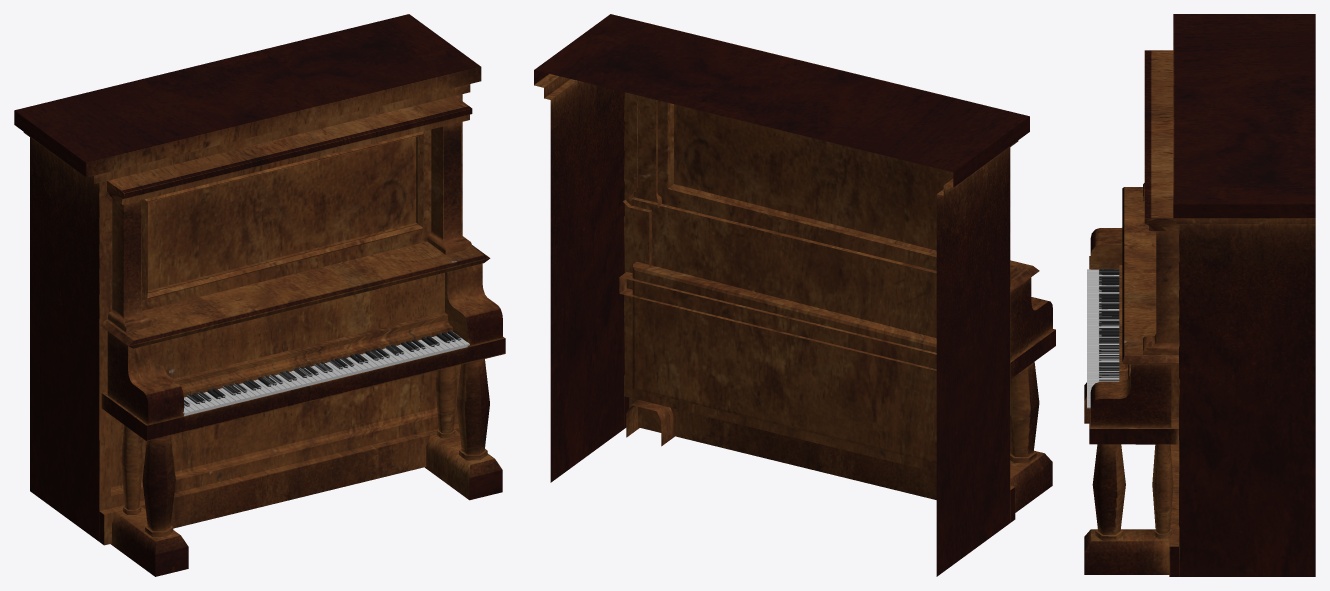
File: PianoOW.fbx
3 views of the same model, side by side, from view 1: azimuth 30°, elevation 25°; view 2: azimuth 150°, elevation 25°; view 3: azimuth 270°, elevation 25° (orthographic). The views are drawn at different scales.
Parts seen in each view (by area): view 1: Piano; view 2: Piano; view 3: Piano.
Boxes of the visible parts, x1,y1,x2,y2 form: Piano: (14,14,505,576); Piano: (534,14,1055,576); Piano: (1084,14,1315,576).
Bounding box in the file's own units: 217 × 203 × 112.
